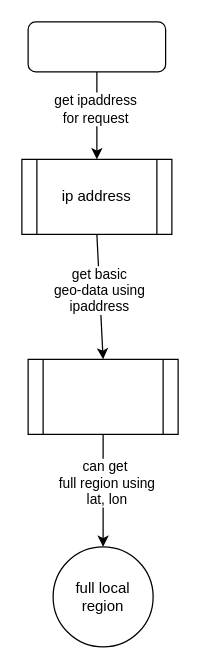
This 200x669 diagram has some shape labels left out. Each missing label, with the centre of its shape:
"lat, lon" belongs at [102,396].
"Network Request" belongs at [96,46].
